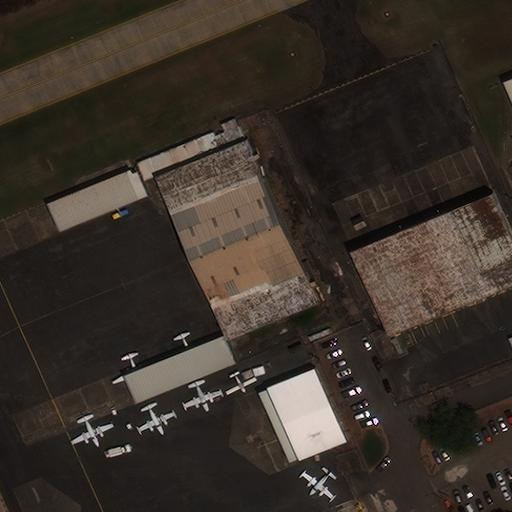Small Civil Transport: (72, 417, 113, 446), (186, 380, 223, 411), (140, 404, 176, 434), (299, 471, 330, 502), (227, 373, 256, 395)
